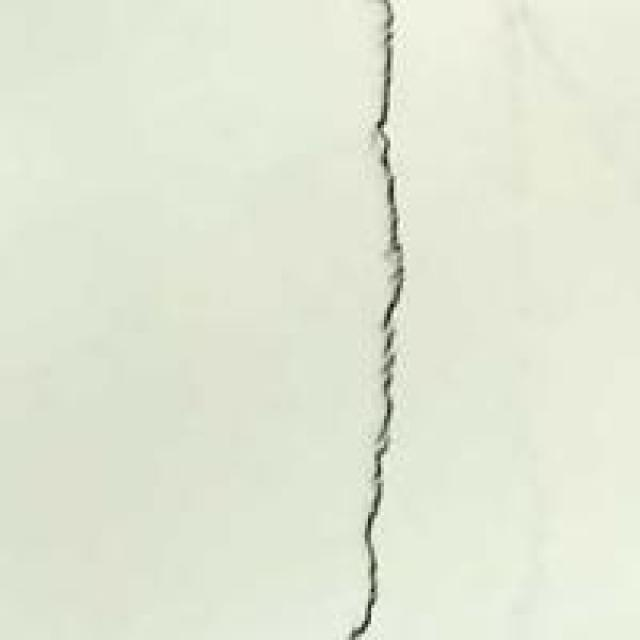Crack: (310, 0, 448, 637)
